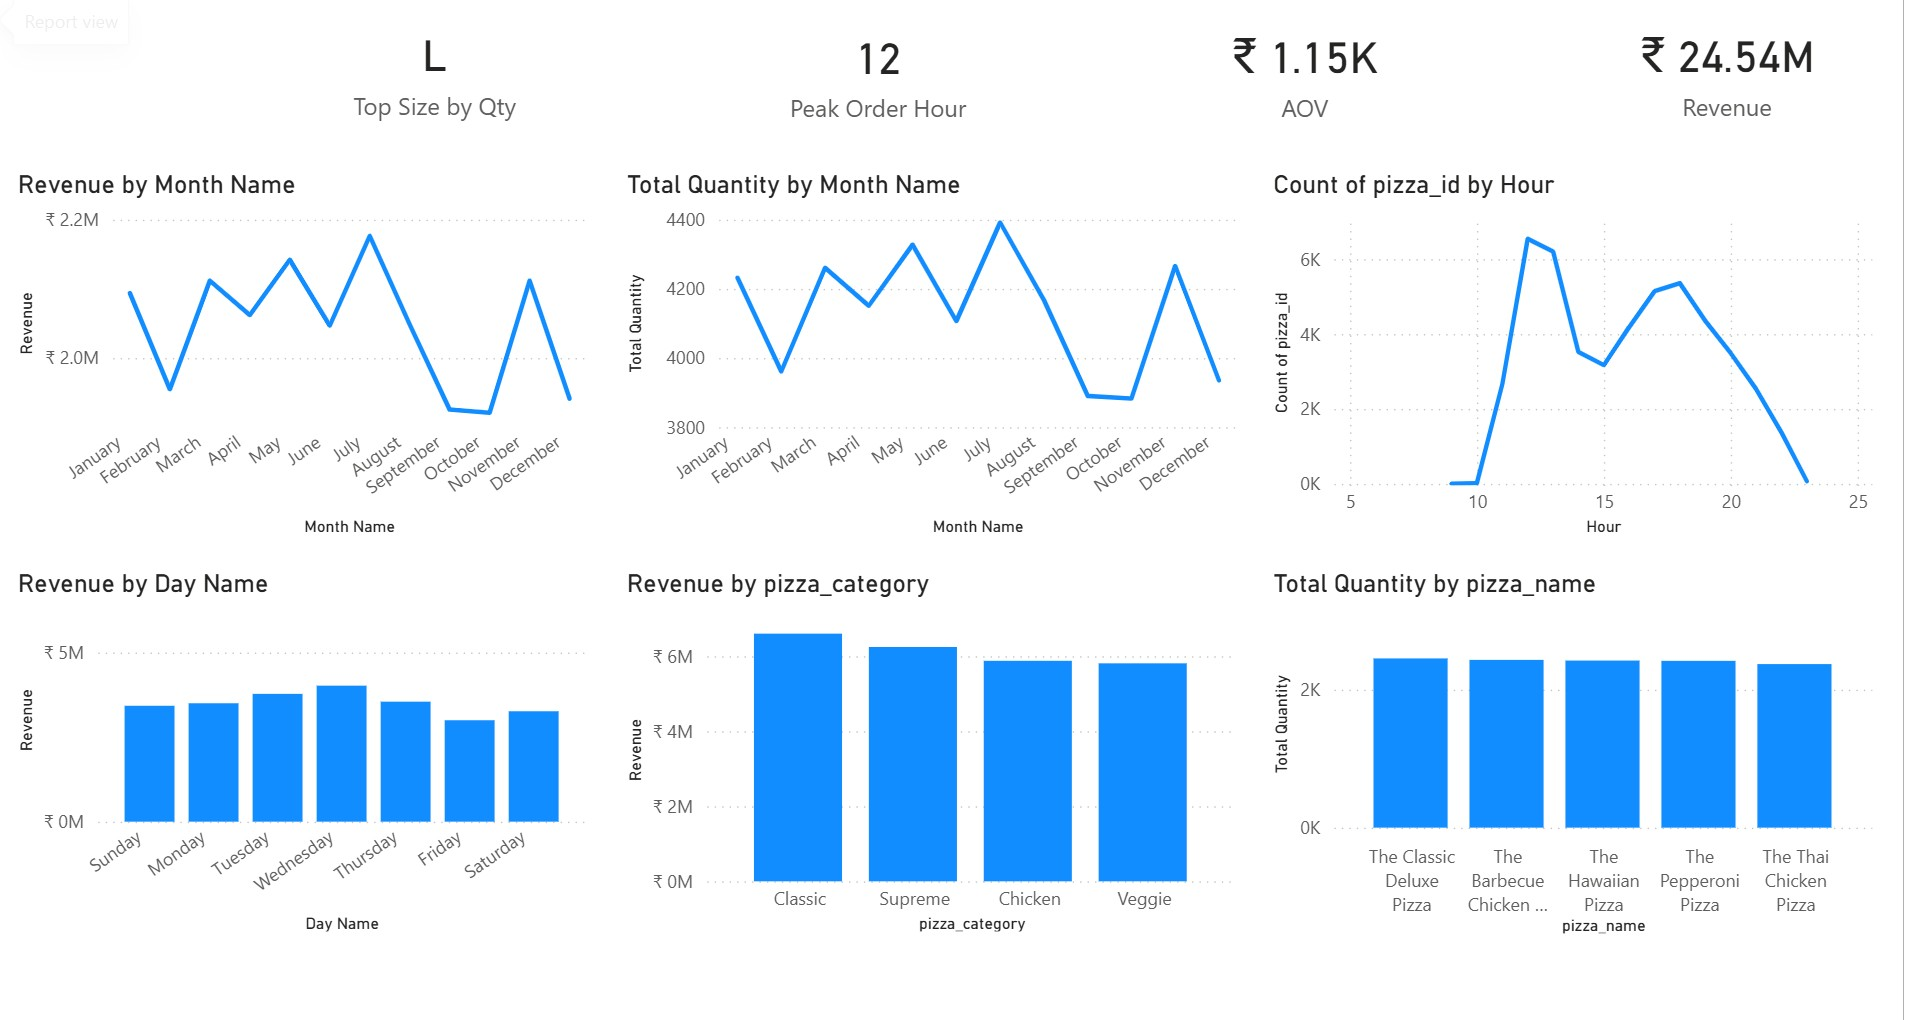

What the dashboard file says about the page in this screenshot:
{"tool":"powerbi","page":{"name":"Page 1","canvas":[1280,720],"ordinal":0},"visuals":[{"type":"card","fields":{"Values":["Dataset.Revenue"]},"box":[1059.1,0,205.2,105.6],"z":0},{"type":"lineChart","fields":{"Category":["Dataset.Month Name"],"Y":["Dataset.Revenue"]},"box":[11.1,119.7,390.2,249.4],"z":1},{"type":"lineChart","fields":{"Y":["CountNonNull(Dataset.pizza_id)"],"Category":["Dataset.Hour"]},"box":[852.9,119.7,411.4,249.4],"z":2},{"type":"columnChart","fields":{"Y":["Dataset.Revenue"],"Category":["Dataset.Day Name"]},"box":[11.1,387.2,390.2,248.4],"z":4},{"type":"columnChart","fields":{"Y":["Dataset.Revenue"],"Category":["Dataset.pizza_category"]},"box":[419.4,387.2,418.4,248.4],"z":5},{"type":"card","fields":{"Values":["Dataset.AOV"]},"box":[775.4,1,206.2,104.6],"z":6},{"type":"card","fields":{"Values":["Dataset.Peak Order Hour"]},"box":[490.8,1,203.2,105.6],"z":7},{"type":"columnChart","fields":{"Category":["Dataset.pizza_name"],"Y":["Dataset.Total Quantity"]},"box":[852.9,387.2,411.4,249.4],"z":8},{"type":"lineChart","fields":{"Category":["Dataset.Month Name"],"Y":["Dataset.Total Quantity"]},"box":[419.4,119.7,418.4,249.4],"z":9},{"type":"card","fields":{"Values":["Dataset.Top Size by Qty"]},"box":[189.1,0,212.2,104.6],"z":10}]}

Visuals, with their boxes on the page's 1280x720 design canvas (x1, y1, x2, y2). These are canvas units, not pixel positions in the 1905x1020 screenshot, which may show the page scaled, cropped or inside an application window:
card - Dataset.Revenue: (x1=1059, y1=0, x2=1264, y2=106)
lineChart - Dataset.Month Name x Dataset.Revenue: (x1=11, y1=120, x2=401, y2=369)
lineChart - CountNonNull(Dataset.pizza_id) x Dataset.Hour: (x1=853, y1=120, x2=1264, y2=369)
columnChart - Dataset.Revenue x Dataset.Day Name: (x1=11, y1=387, x2=401, y2=636)
columnChart - Dataset.Revenue x Dataset.pizza_category: (x1=419, y1=387, x2=838, y2=636)
card - Dataset.AOV: (x1=775, y1=1, x2=982, y2=106)
card - Dataset.Peak Order Hour: (x1=491, y1=1, x2=694, y2=107)
columnChart - Dataset.pizza_name x Dataset.Total Quantity: (x1=853, y1=387, x2=1264, y2=637)
lineChart - Dataset.Month Name x Dataset.Total Quantity: (x1=419, y1=120, x2=838, y2=369)
card - Dataset.Top Size by Qty: (x1=189, y1=0, x2=401, y2=105)
